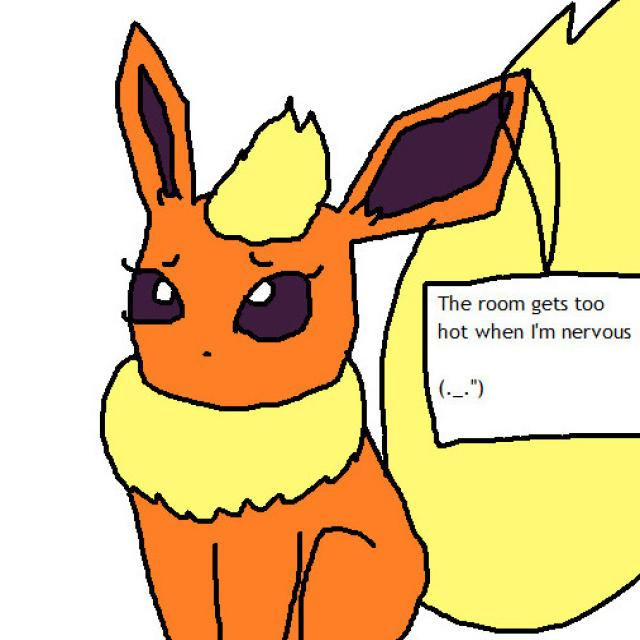Flareon: (113, 69, 526, 635)
